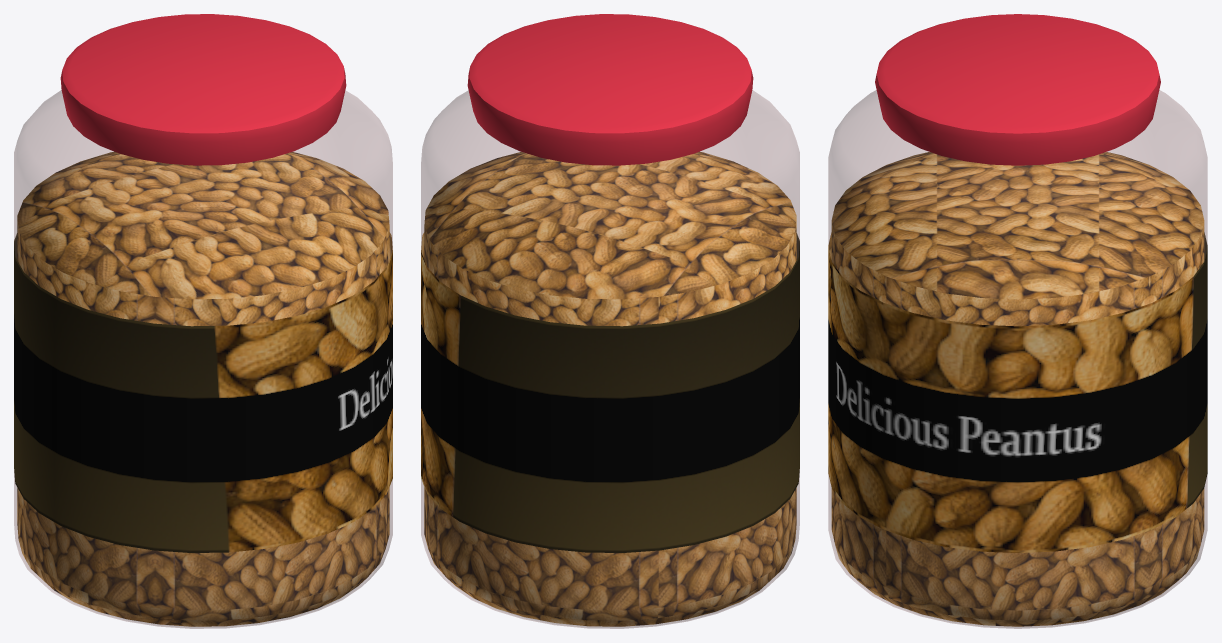
File: PeanutJar.glb
3 renders of one model, left to right at view 1: azimuth 30°, elevation 25°; view 2: azimuth 150°, elevation 25°; view 3: azimuth 270°, elevation 25°, orthographic.
Visible parts, largest first — view 1: Cylinder; view 2: Cylinder; view 3: Cylinder.
Boxes of the visible parts, x1,y1,x2,y2 form: Cylinder: [14, 14, 392, 628]; Cylinder: [421, 14, 799, 628]; Cylinder: [828, 14, 1207, 628].
Size of the model in its own units: 0.2586 by 0.367 by 0.2586.
4 materials, 2 textured.
